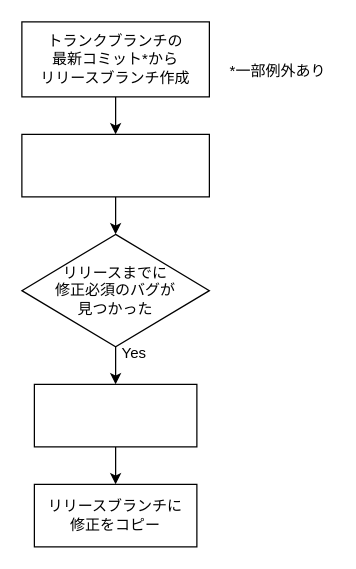
This 356x569 diagram has some shape labels left out. The box of each missing label's shape, as (x1, y1, x2, y2) in pixels:
トランクブランチに 修正を適用: (33, 383, 197, 447)
リリースブランチで アプリ作成し、テスト: (21, 133, 209, 197)
